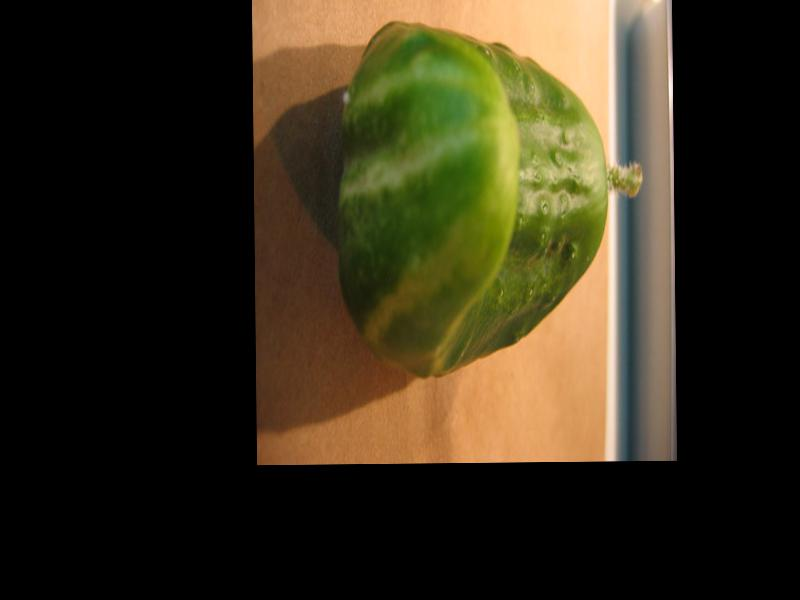Cucumber: (334, 15, 645, 375)
